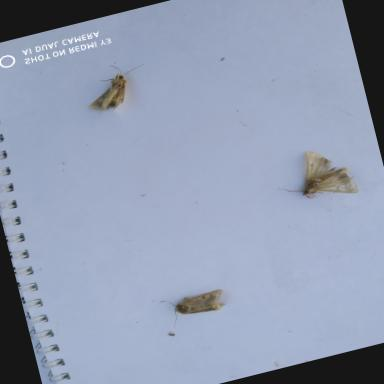abw: (270, 140, 360, 210), (80, 57, 153, 115), (159, 286, 228, 330)
